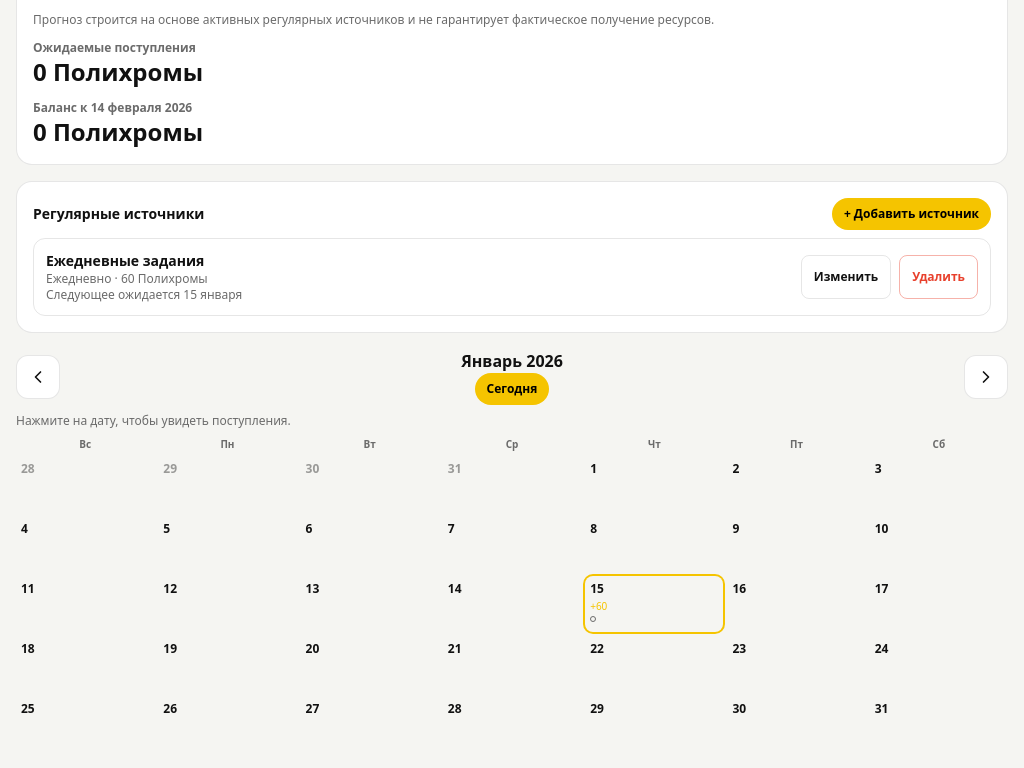
Test case: CalendarPage — split flow ('this and future') › opens edit-scope from a virtual occurrence, then the split form pre-filled from the loaded series
(page scrolled)
Click the button named "2026-01-15" at (654,604), box [585,576,723,632]
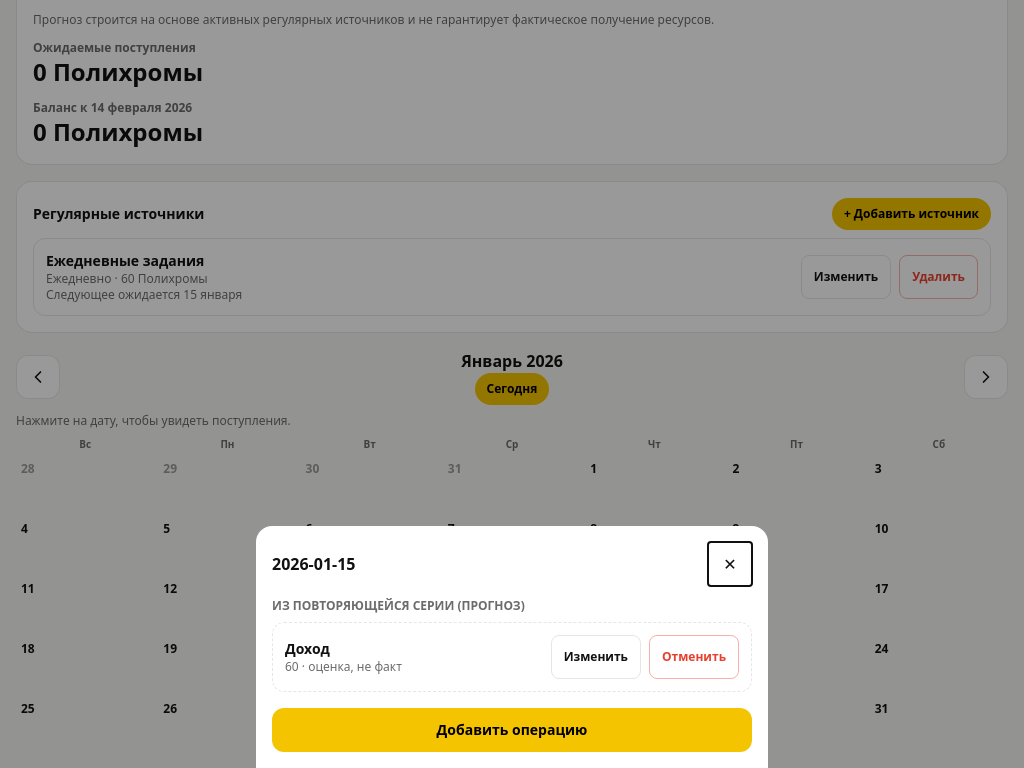
Click the button "Изменить" at (596,657), box [551,635,641,679]
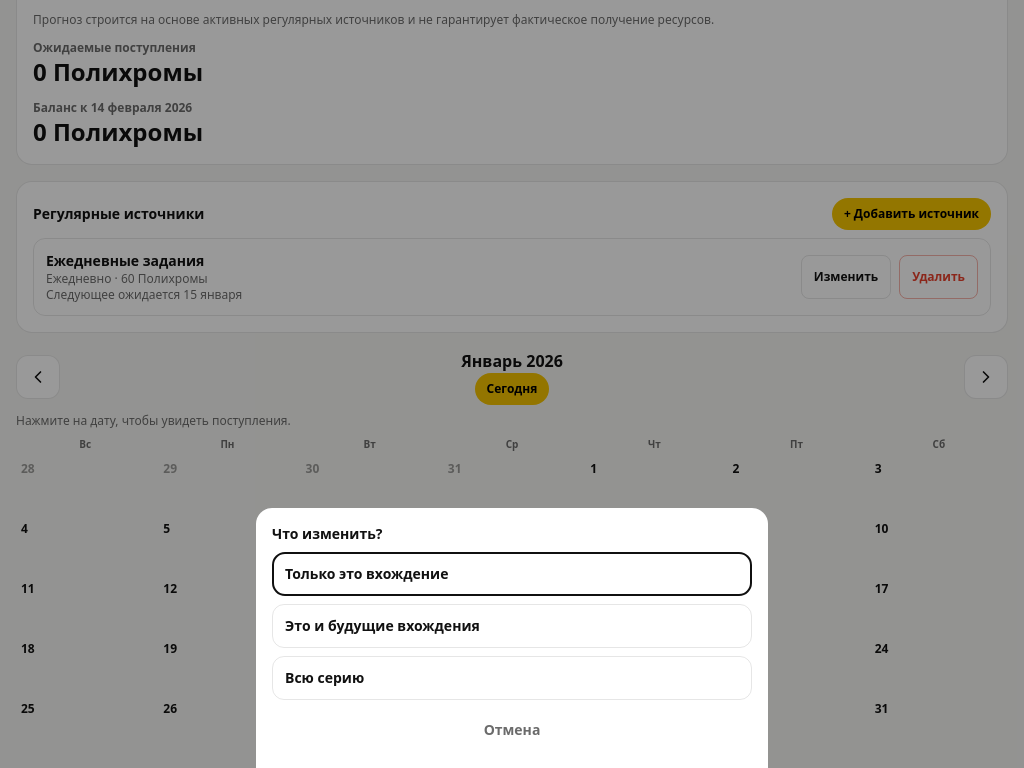
Click the button "Это и будущие вхождения" at (382,626), box [272,604,752,648]
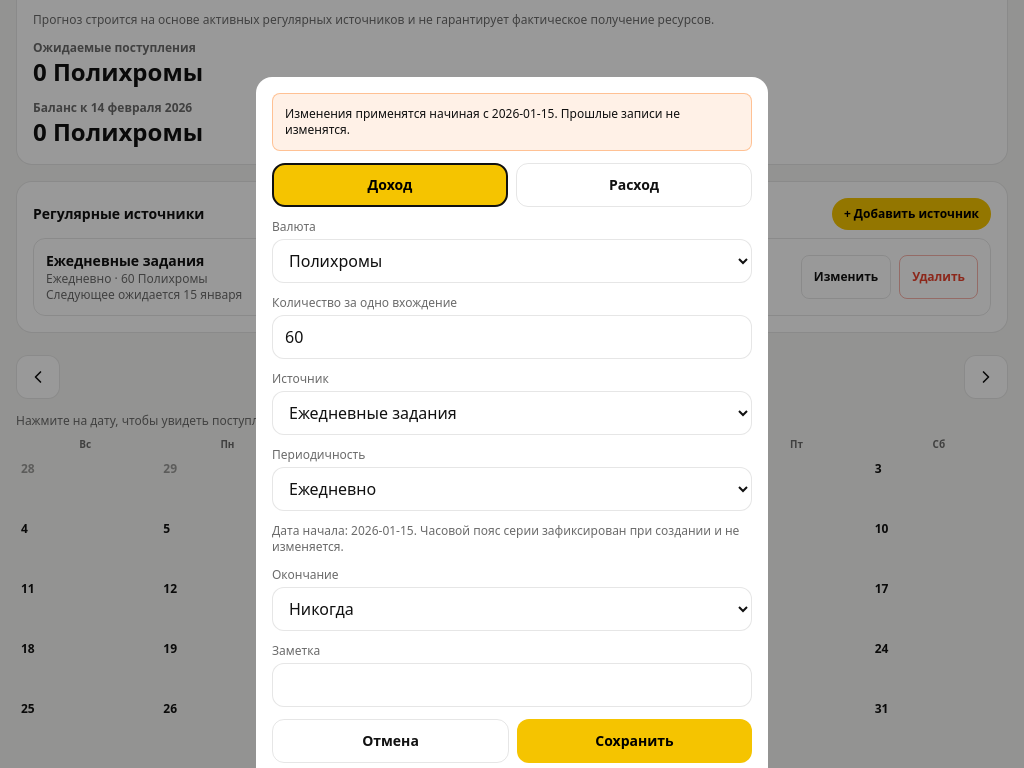
Check: the text "Изменения применятся начиная с 2026-01-15" is shown, box [272,93,752,151]
Check: the field labelled "Количество за одно вхождение" holds "60", box [272,315,752,359]
